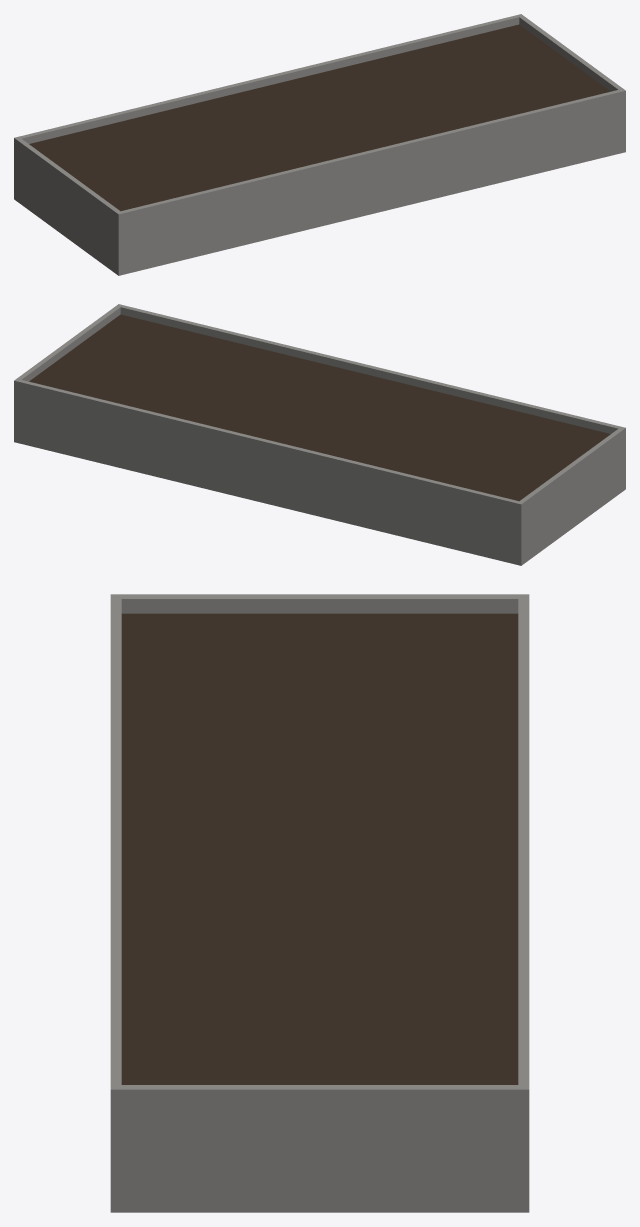
The model's file is floreira_2.glb.
3 views of the same model, one above another, from view 1: azimuth 30°, elevation 25°; view 2: azimuth 150°, elevation 25°; view 3: azimuth 270°, elevation 25° (orthographic). The views are drawn at different scales.
Parts seen in each view (by area): view 1: floreira_2; view 2: floreira_2; view 3: floreira_2.
Boxes of the visible parts, x1,y1,x2,y2 form: floreira_2: [14, 14, 625, 275]; floreira_2: [14, 304, 625, 565]; floreira_2: [110, 594, 529, 1212].
Size of the model in its own units: 3.94 by 0.4569 by 1.41.
